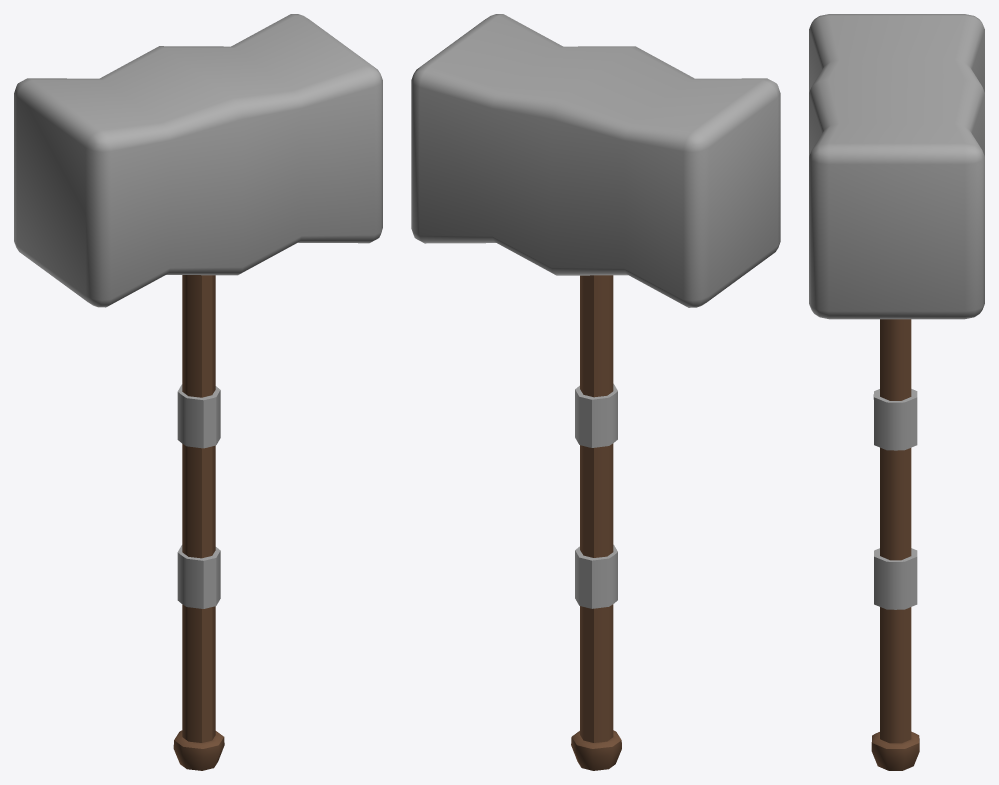
Rendered from Warhammer_1.fbx.
3 renders of one model, left to right at view 1: azimuth 30°, elevation 25°; view 2: azimuth 150°, elevation 25°; view 3: azimuth 270°, elevation 25°, orthographic.
Parts seen in each view (by area): view 1: Warhammer_1; view 2: Warhammer_1; view 3: Warhammer_1.
Boxes of the visible parts, <box> form: Warhammer_1: <box>14,14,382,770</box>; Warhammer_1: <box>411,14,780,770</box>; Warhammer_1: <box>809,14,984,770</box>.
Bounding box in the file's own units: 0.1857 × 0.4155 × 0.0969.
